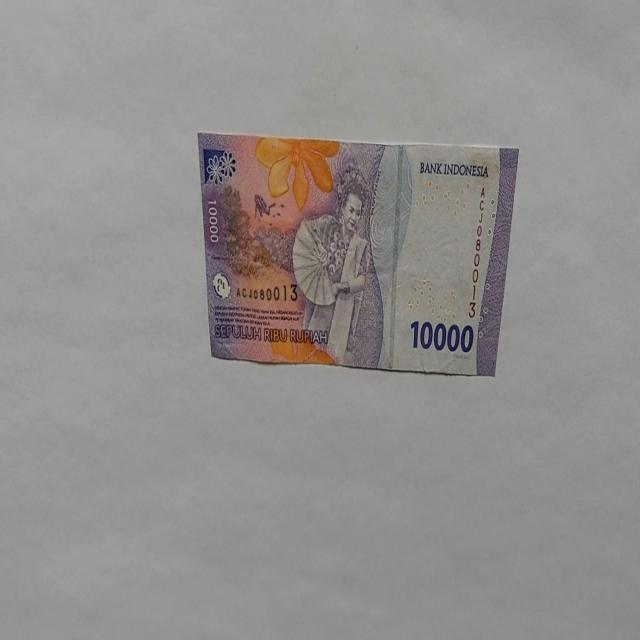sepuluh ribu rupiah: (196, 131, 520, 377)
